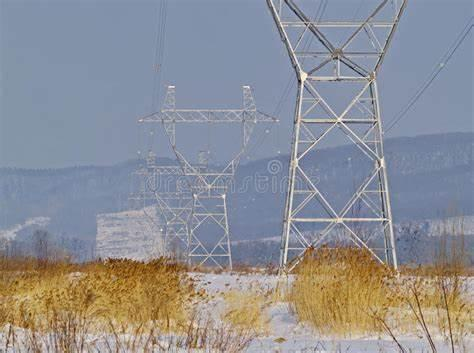power_tower: (265, 1, 415, 278), (135, 82, 279, 277)
